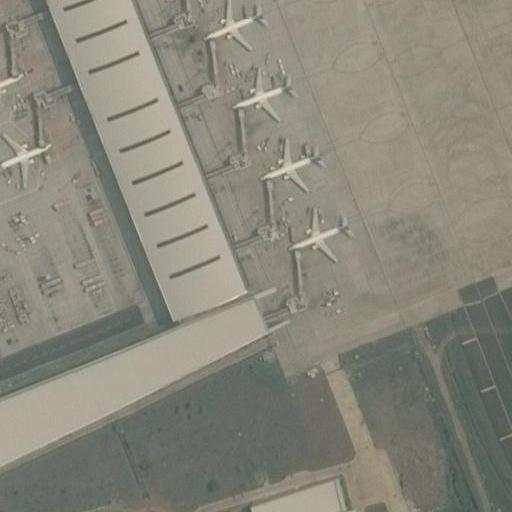Aircraft: (229, 67, 292, 120), (0, 127, 54, 183), (291, 210, 350, 261), (201, 0, 265, 47), (261, 143, 320, 187), (0, 54, 24, 110)
